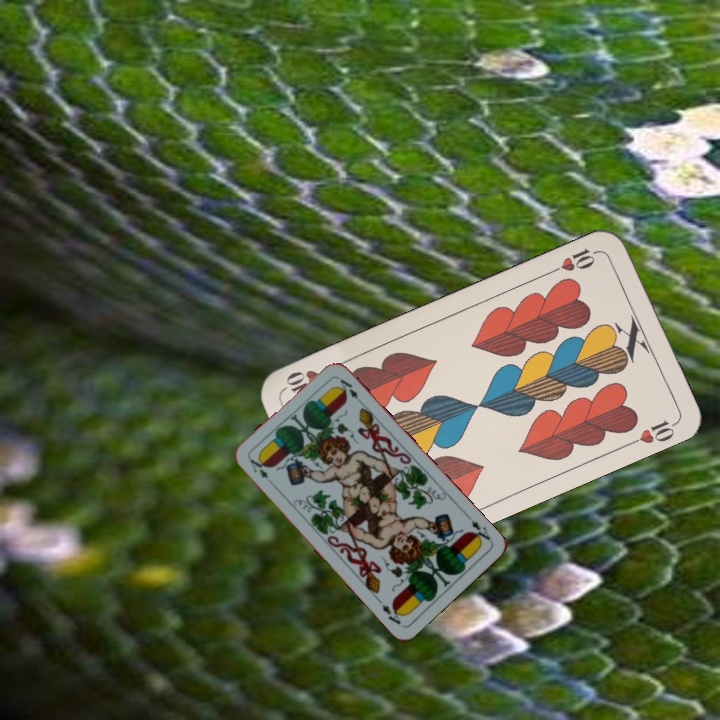EA: (467, 516, 494, 546), (246, 455, 271, 482)
H10: (547, 244, 604, 276)
